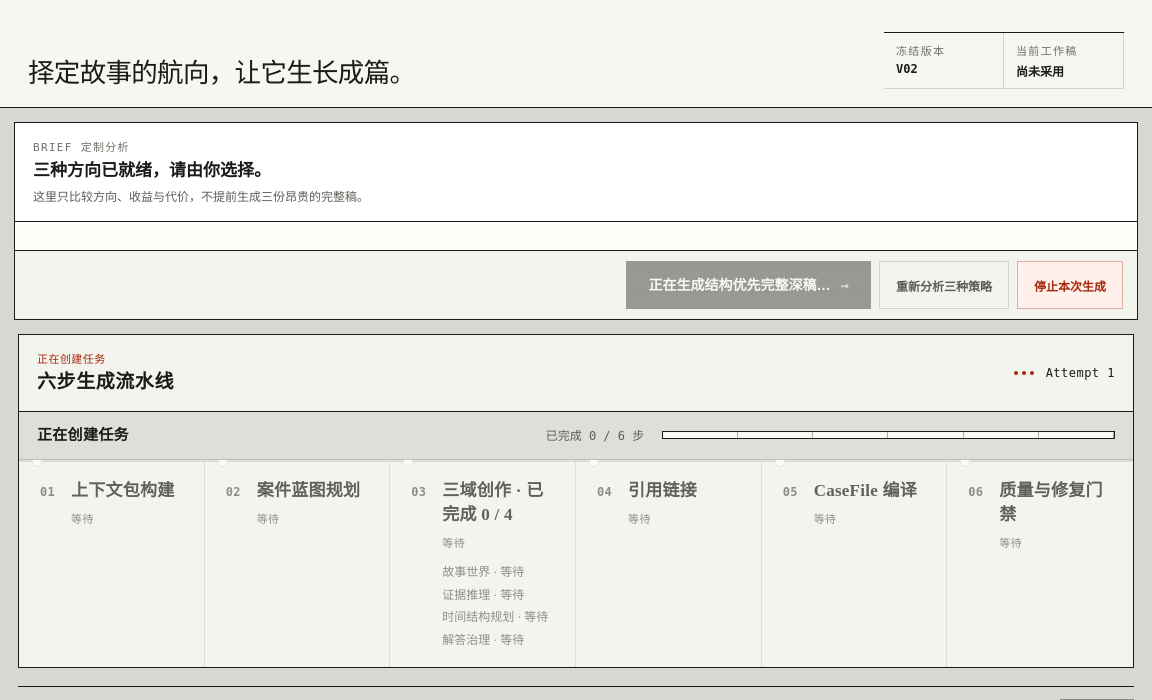
Scenario: draft candidate cancellation feedback › reports a raced failure without claiming that stopping succeeded
Click the button "停止本次生成".
click(1070, 285)  # box [1017,261,1123,309]
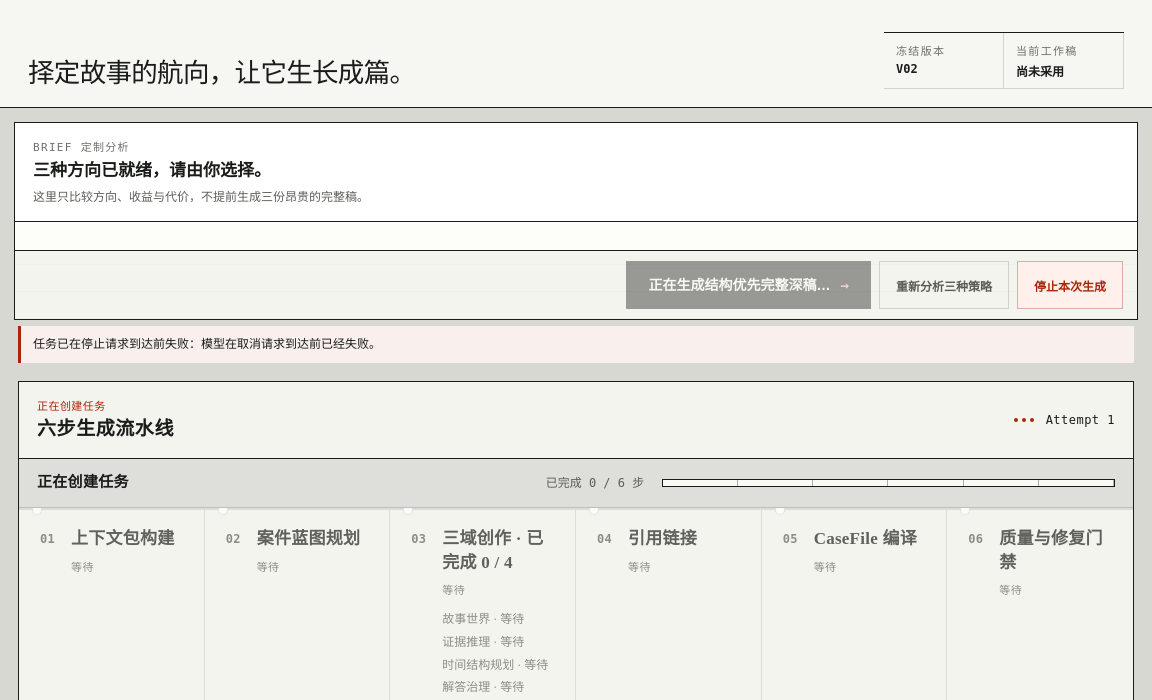
Check: the message reads "任务已在停止请求到达前失败：模型在取消请求到达前已经失败。", box [33,337,381,351]
